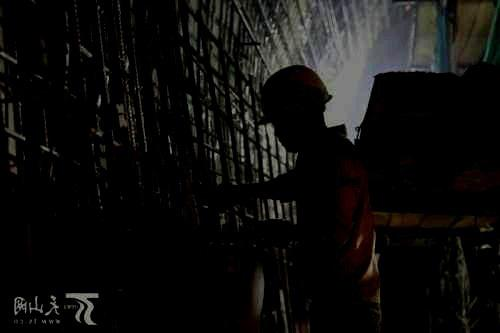helmet: (256, 64, 333, 155)
